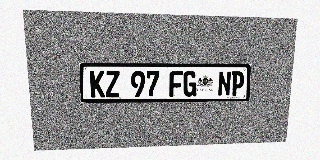7: (145, 71, 159, 97)
9: (131, 71, 145, 97)
F: (169, 71, 183, 97)
G: (183, 71, 197, 97)
K: (90, 71, 105, 97)
N: (217, 71, 231, 96)
P: (231, 71, 245, 96)
Z: (105, 71, 120, 97)
